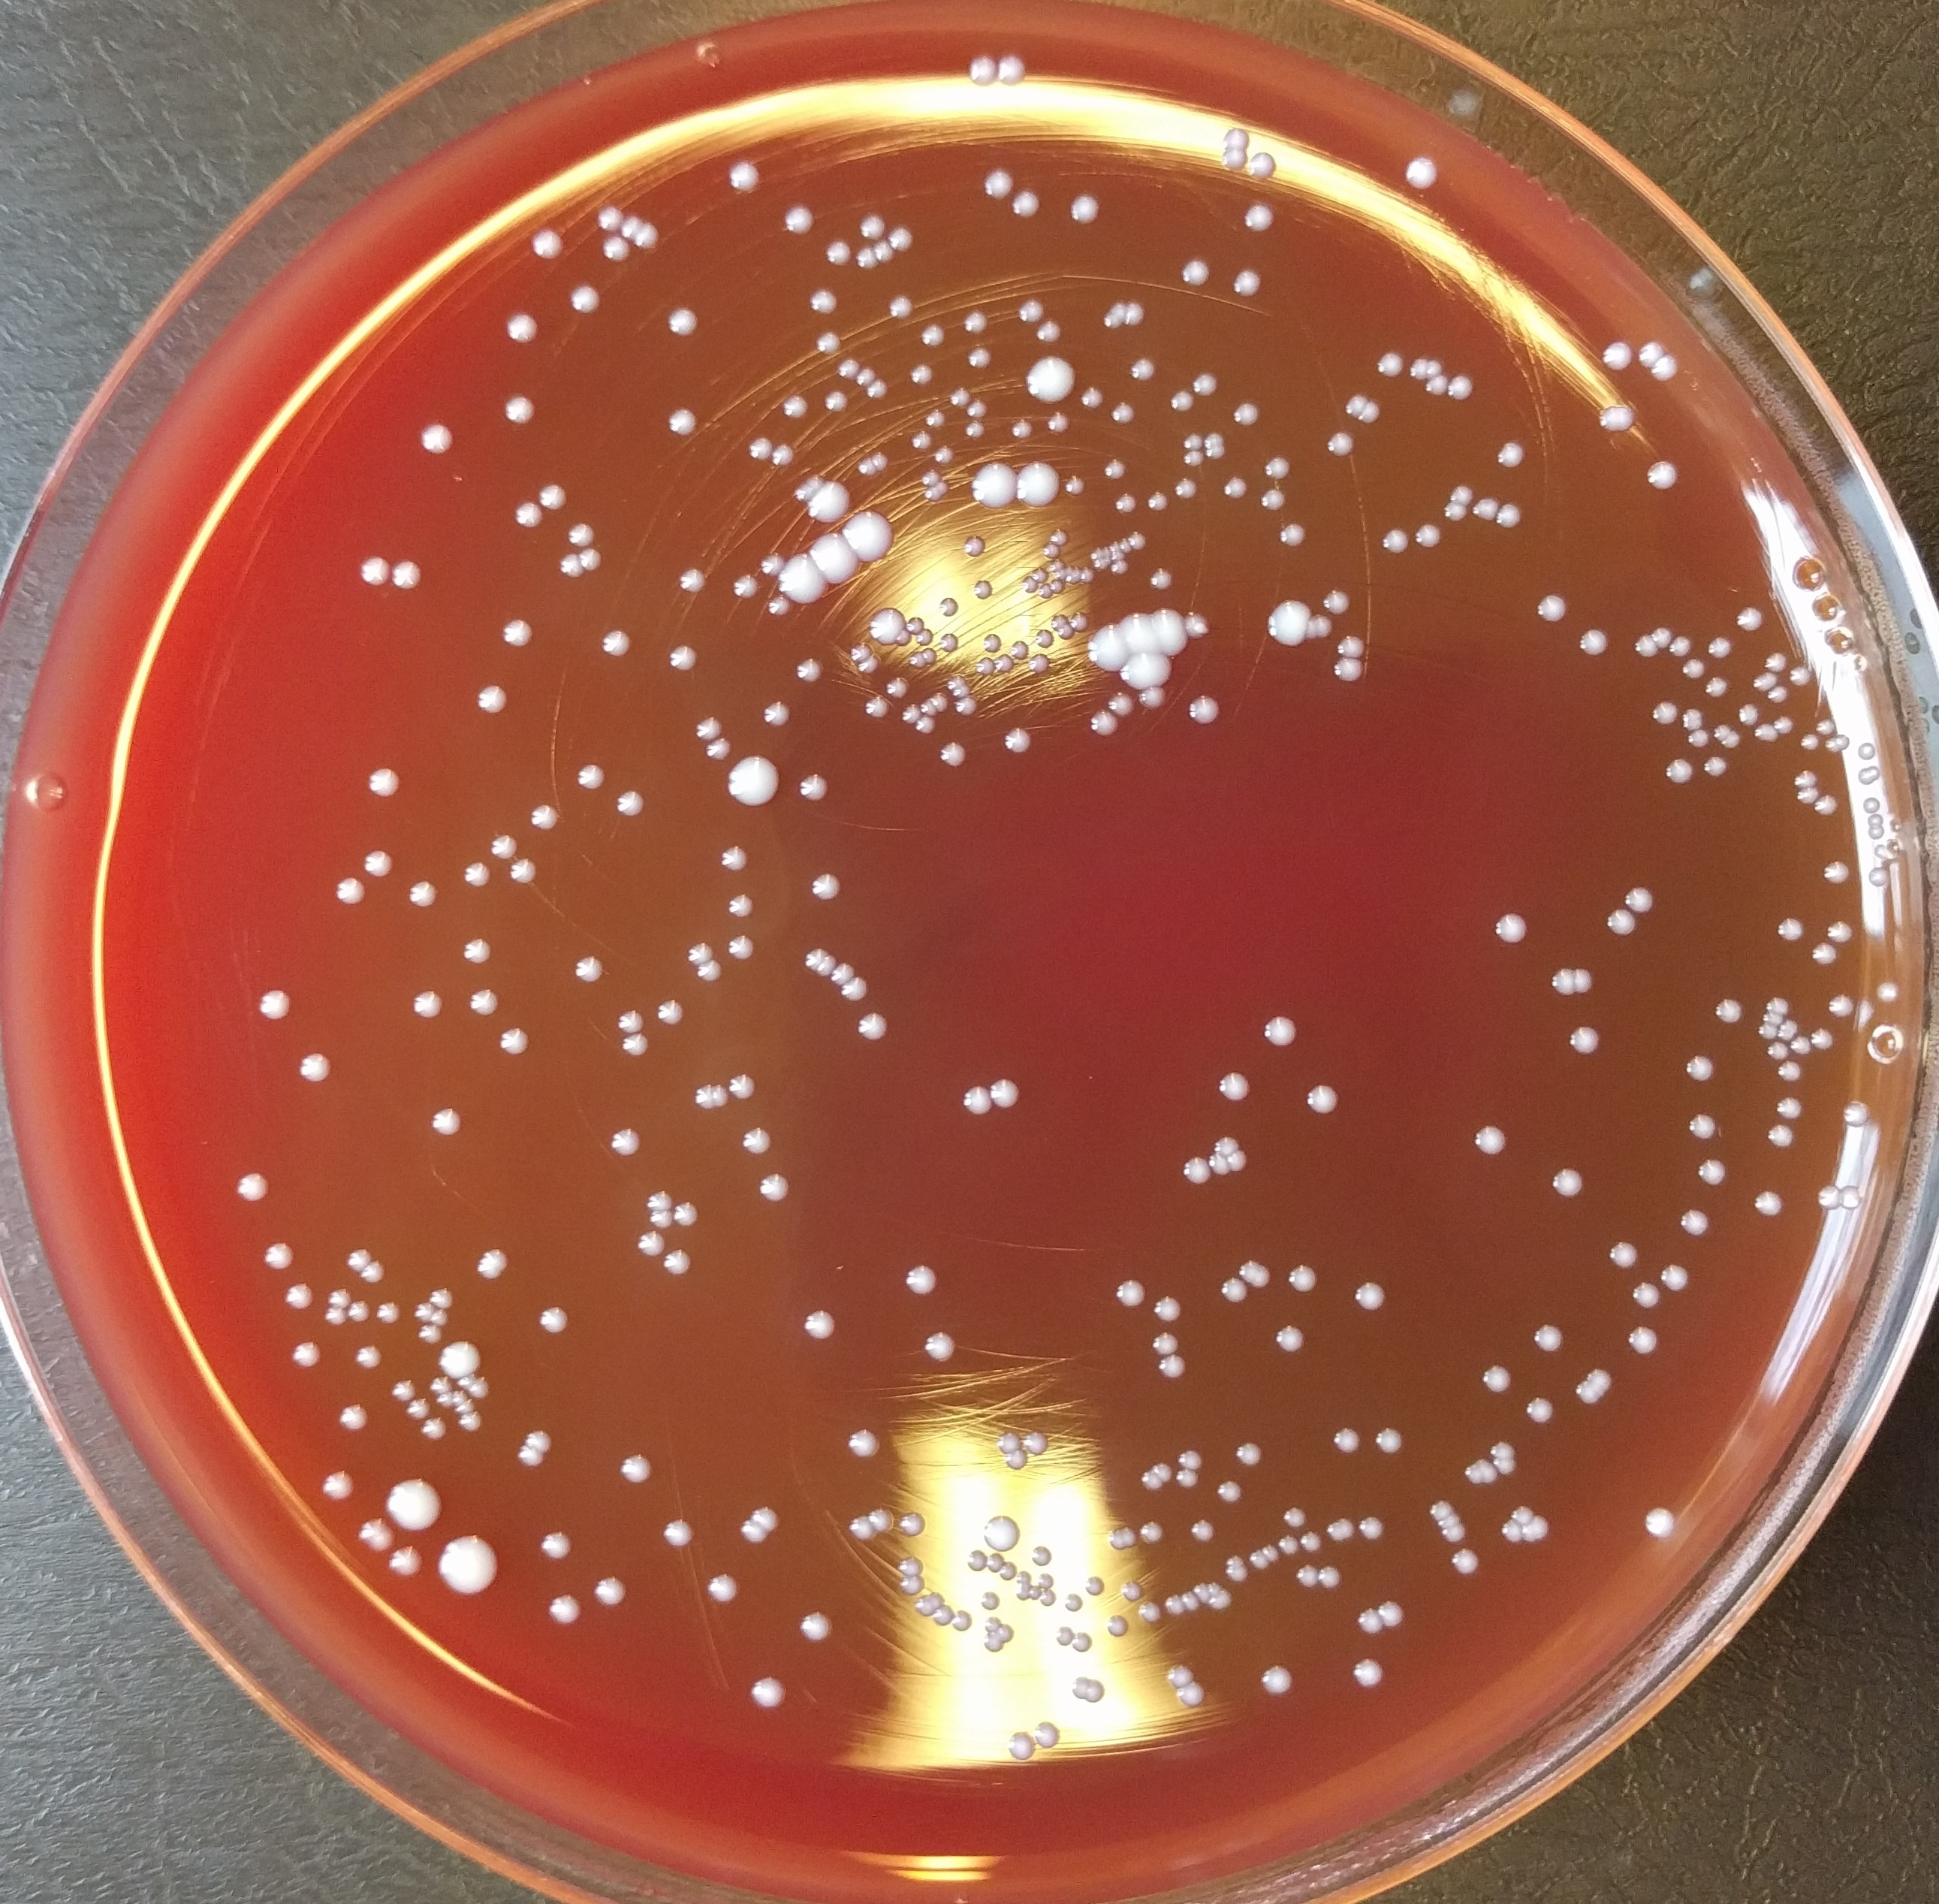sp23: (427, 1533, 504, 1597), (385, 1475, 446, 1531), (802, 532, 863, 586), (779, 549, 832, 609), (840, 506, 895, 558), (1024, 352, 1076, 403), (1266, 596, 1311, 654), (727, 757, 778, 807), (1086, 619, 1128, 678), (969, 459, 1017, 509), (792, 1604, 844, 1649), (745, 1672, 797, 1714), (504, 309, 549, 354), (1017, 460, 1058, 509), (1119, 650, 1175, 687), (497, 391, 544, 432), (563, 277, 605, 323), (317, 1468, 363, 1510), (797, 767, 842, 809), (1400, 150, 1442, 195), (349, 1510, 396, 1550), (359, 762, 406, 802), (255, 987, 298, 1029), (1119, 612, 1160, 657), (980, 1512, 1024, 1552), (659, 302, 704, 340), (232, 1170, 277, 1208), (722, 160, 769, 197), (809, 481, 851, 521), (1472, 1121, 1514, 1161), (701, 1566, 743, 1606), (385, 1538, 425, 1580), (1259, 1010, 1301, 1050), (427, 1102, 469, 1142), (439, 1337, 483, 1376), (534, 1527, 577, 1566), (354, 553, 392, 596), (994, 52, 1034, 92), (1112, 1275, 1153, 1315), (417, 418, 457, 459), (903, 1259, 945, 1297), (293, 1048, 337, 1085), (1154, 607, 1187, 654), (1533, 588, 1571, 628), (330, 874, 370, 912), (1299, 1083, 1343, 1118), (1547, 1165, 1590, 1200), (1494, 908, 1533, 947), (1350, 1655, 1388, 1693), (471, 1245, 509, 1283), (1215, 1067, 1254, 1105), (854, 1010, 893, 1048), (473, 682, 511, 720), (546, 1590, 586, 1627), (985, 1074, 1025, 1111), (391, 553, 427, 593), (1561, 1022, 1602, 1057), (1283, 1261, 1325, 1295), (842, 1426, 886, 1459), (525, 228, 570, 260), (1643, 457, 1681, 493), (260, 1236, 296, 1275), (757, 1166, 793, 1205), (870, 605, 905, 645), (1238, 197, 1273, 237), (663, 405, 703, 439), (1491, 432, 1526, 473), (1184, 692, 1224, 727), (1602, 903, 1643, 938), (1257, 1660, 1297, 1695), (460, 931, 495, 971), (537, 1302, 574, 1339), (1179, 1153, 1215, 1189), (410, 985, 446, 1022), (1010, 187, 1048, 221), (779, 202, 818, 237), (1228, 398, 1266, 432), (1712, 992, 1747, 1030), (614, 1454, 652, 1489), (661, 1513, 696, 1552), (673, 563, 711, 598), (978, 167, 1018, 201), (806, 284, 846, 317), (1350, 1280, 1390, 1313), (591, 1576, 631, 1609), (289, 1337, 330, 1370), (1573, 628, 1615, 659), (1691, 1156, 1733, 1187), (964, 52, 1001, 87), (1067, 192, 1102, 228), (1477, 1360, 1514, 1395), (661, 1243, 697, 1278), (804, 1306, 839, 1343), (574, 758, 609, 795), (359, 849, 396, 884), (628, 218, 666, 251), (1179, 255, 1217, 288), (1684, 1111, 1723, 1144), (572, 952, 610, 985), (499, 615, 537, 649), (1330, 656, 1371, 687), (1180, 607, 1215, 642), (1606, 1238, 1641, 1273), (1531, 1322, 1566, 1357), (281, 1278, 316, 1313), (924, 1329, 959, 1363), (1153, 1292, 1187, 1327), (1657, 1259, 1693, 1292), (1329, 1423, 1365, 1456), (337, 1397, 370, 1433), (959, 1079, 992, 1116), (600, 234, 638, 265), (1749, 1186, 1787, 1217), (1226, 267, 1266, 296), (1123, 350, 1158, 384), (1599, 338, 1632, 373), (1662, 757, 1697, 790), (1625, 1323, 1658, 1358), (1643, 1503, 1676, 1538), (1215, 1275, 1250, 1308), (537, 481, 572, 514), (466, 987, 502, 1018), (717, 844, 753, 875), (600, 622, 631, 659), (1446, 1547, 1484, 1576), (1271, 521, 1311, 549), (1735, 602, 1768, 635), (1840, 1098, 1873, 1132), (1526, 1393, 1559, 1426), (746, 1499, 779, 1533), (1022, 1426, 1055, 1459), (497, 1025, 530, 1058), (725, 889, 759, 922), (406, 879, 439, 912), (614, 786, 647, 819), (917, 321, 952, 352), (1379, 527, 1414, 558), (1683, 1053, 1718, 1085), (1677, 1207, 1712, 1238), (809, 868, 844, 900), (575, 544, 607, 579), (1322, 427, 1358, 457), (1170, 1447, 1208, 1475), (821, 237, 854, 269), (1374, 349, 1405, 382), (1323, 1515, 1357, 1547), (1006, 1730, 1038, 1763), (1003, 725, 1034, 758), (1245, 152, 1280, 181), (851, 244, 886, 274), (811, 330, 846, 359), (961, 307, 996, 337), (1320, 584, 1355, 614), (1772, 914, 1806, 943), (1372, 1426, 1407, 1456), (743, 1126, 778, 1156), (610, 1128, 645, 1158), (506, 856, 541, 886), (565, 521, 600, 551), (881, 293, 917, 321), (666, 645, 703, 673), (692, 717, 729, 745), (1231, 1442, 1269, 1468), (856, 213, 888, 244), (595, 202, 626, 234), (1412, 518, 1444, 549), (1766, 1121, 1798, 1153), (1177, 1679, 1208, 1710), (1032, 1721, 1064, 1752), (992, 1426, 1024, 1458), (1106, 690, 1137, 722), (757, 549, 788, 581), (1644, 352, 1677, 382), (1648, 697, 1677, 731), (1820, 858, 1854, 887), (1775, 1090, 1805, 1123), (1573, 1381, 1606, 1411), (1273, 1323, 1306, 1353), (1378, 1599, 1411, 1629), (725, 933, 759, 962), (514, 499, 548, 528), (959, 347, 994, 375), (1041, 410, 1076, 438), (1622, 886, 1657, 914), (460, 860, 495, 887), (778, 396, 814, 422), (1332, 635, 1369, 661), (732, 1519, 769, 1545), (886, 225, 917, 255), (1221, 474, 1252, 504), (1357, 1513, 1388, 1543), (1315, 1564, 1344, 1595), (530, 802, 560, 833), (556, 551, 586, 582), (729, 570, 759, 602), (1219, 124, 1252, 152), (1472, 493, 1500, 527), (1636, 337, 1663, 370), (1186, 1515, 1219, 1543), (614, 1010, 647, 1037), (860, 694, 893, 722), (1031, 316, 1065, 342), (1137, 685, 1172, 711), (1149, 1330, 1184, 1357), (352, 1344, 387, 1370), (684, 938, 718, 964), (793, 657, 828, 683), (1259, 486, 1289, 516), (1137, 1519, 1167, 1548), (865, 1506, 895, 1536), (636, 1229, 666, 1259), (727, 1072, 757, 1102), (839, 975, 868, 1004), (696, 957, 725, 987), (619, 213, 647, 244), (905, 429, 936, 457), (1167, 385, 1198, 413), (1704, 635, 1735, 663), (1144, 565, 1175, 593), (1548, 968, 1576, 999), (1215, 1477, 1243, 1508), (1172, 1465, 1203, 1493), (1355, 1608, 1386, 1635), (1165, 1662, 1196, 1690), (418, 1416, 450, 1444), (425, 1282, 453, 1313), (830, 957, 858, 989), (760, 701, 792, 729), (704, 736, 736, 764), (1447, 371, 1473, 405), (1677, 656, 1711, 682), (936, 741, 969, 767), (617, 1034, 652, 1058), (1221, 148, 1248, 178), (1018, 296, 1046, 326), (1121, 300, 1149, 330), (1109, 399, 1139, 427), (1170, 474, 1200, 502), (1191, 370, 1219, 399), (1786, 663, 1813, 692), (1826, 917, 1855, 945), (1812, 940, 1841, 968), (1629, 1280, 1658, 1308), (898, 1508, 928, 1536), (403, 1391, 431, 1421), (342, 1245, 371, 1273), (673, 1200, 703, 1227), (654, 997, 682, 1027), (488, 833, 518, 861), (1088, 710, 1118, 738), (1142, 490, 1174, 516), (1261, 453, 1292, 479), (1280, 1505, 1311, 1531), (1273, 1531, 1304, 1557), (846, 1517, 877, 1543), (521, 1428, 553, 1454), (643, 1187, 677, 1212), (769, 439, 793, 473), (963, 415, 990, 443), (1006, 415, 1034, 443), (1594, 405, 1622, 432), (1522, 1517, 1550, 1545), (466, 1377, 493, 1405), (813, 950, 840, 978), (833, 356, 863, 382), (921, 406, 950, 432), (1358, 398, 1385, 427), (1763, 650, 1793, 677), (1749, 722, 1779, 748), (1156, 1351, 1186, 1377), (1296, 1527, 1325, 1554), (1294, 1562, 1320, 1592), (371, 1297, 401, 1323), (1634, 631, 1658, 663), (1669, 628, 1693, 659), (1826, 992, 1857, 1017), (1100, 455, 1128, 481), (1341, 392, 1369, 418), (1702, 673, 1730, 699), (1702, 753, 1730, 779), (1763, 992, 1791, 1018), (1838, 1182, 1864, 1210), (1817, 1182, 1843, 1210), (1119, 1578, 1147, 1604), (949, 1606, 976, 1632), (929, 1601, 957, 1627), (1003, 1447, 1031, 1473), (345, 1295, 371, 1323), (746, 434, 774, 460), (907, 363, 936, 387), (947, 387, 976, 411), (1571, 966, 1595, 996), (1207, 1590, 1236, 1615), (898, 1573, 928, 1597), (359, 1259, 389, 1283), (413, 1323, 443, 1348), (647, 1207, 677, 1231), (691, 1083, 715, 1112), (872, 237, 898, 263), (1111, 490, 1137, 516), (1808, 1025, 1834, 1051), (1139, 1468, 1165, 1494), (1135, 1597, 1161, 1623), (802, 945, 828, 971), (865, 375, 889, 403), (1494, 502, 1522, 527), (1737, 701, 1761, 729), (1475, 1458, 1500, 1486), (1507, 1503, 1534, 1527), (514, 1444, 542, 1468), (457, 1411, 485, 1435), (424, 1372, 452, 1397), (820, 391, 849, 413), (1615, 406, 1637, 436), (1433, 1508, 1463, 1531), (1104, 1615, 1133, 1637), (452, 1398, 481, 1421), (1236, 1255, 1259, 1285), (1252, 1262, 1275, 1292), (1444, 483, 1475, 504), (1426, 1498, 1458, 1519), (1064, 473, 1088, 499), (1444, 500, 1470, 525), (1684, 725, 1711, 750), (1718, 727, 1744, 751), (1766, 1037, 1791, 1064), (1777, 1058, 1803, 1083), (1874, 980, 1899, 1006), (1587, 1363, 1613, 1388), (1500, 1520, 1524, 1547), (1245, 1547, 1269, 1573), (1222, 1561, 1248, 1585), (1079, 1574, 1106, 1599), (1083, 1677, 1107, 1703), (964, 1548, 990, 1573), (412, 1301, 436, 1327), (1027, 650, 1051, 677), (912, 711, 938, 736), (765, 591, 790, 617), (1107, 296, 1130, 324), (963, 396, 990, 418), (1421, 375, 1449, 398), (1751, 671, 1779, 694), (1791, 765, 1819, 788), (1440, 1520, 1468, 1543), (926, 1587, 954, 1609), (391, 1377, 418, 1400), (324, 1285, 352, 1308), (856, 654, 884, 677), (896, 1555, 926, 1576), (1180, 432, 1205, 457), (1772, 713, 1796, 738), (1313, 612, 1337, 636), (1868, 865, 1892, 889), (1163, 1592, 1187, 1616), (324, 1302, 349, 1327), (1212, 1133, 1236, 1158), (1205, 1151, 1229, 1175), (853, 364, 879, 387), (1203, 427, 1229, 450), (1765, 683, 1791, 706), (1793, 781, 1819, 804), (1813, 793, 1840, 816), (1151, 1461, 1177, 1484), (1069, 1632, 1095, 1655), (1226, 1147, 1248, 1173), (1078, 385, 1106, 406), (453, 1372, 481, 1393), (882, 678, 910, 699), (793, 479, 814, 507), (1794, 729, 1819, 751), (1777, 1018, 1801, 1041), (1494, 1454, 1519, 1477), (1029, 1543, 1053, 1566), (978, 1588, 1003, 1611), (427, 1308, 452, 1330), (1069, 609, 1092, 633), (994, 650, 1017, 675), (900, 703, 924, 725), (806, 471, 830, 493), (1125, 528, 1151, 549), (982, 1632, 1008, 1653), (963, 537, 989, 558), (954, 696, 980, 717), (1489, 1440, 1517, 1459), (1182, 448, 1205, 471), (1407, 357, 1430, 380), (1423, 356, 1446, 378), (1062, 1592, 1085, 1615), (982, 631, 1004, 654), (938, 631, 961, 654), (1650, 626, 1670, 650), (1756, 1020, 1780, 1041), (1789, 1036, 1813, 1057), (1180, 1588, 1201, 1613), (1071, 1676, 1092, 1700), (434, 1390, 455, 1414), (849, 642, 874, 663), (856, 457, 877, 481), (1861, 795, 1887, 814), (868, 446, 888, 473), (1099, 309, 1119, 331), (1681, 703, 1704, 724), (1259, 1543, 1282, 1564), (1119, 1526, 1140, 1548), (1034, 1571, 1057, 1592), (997, 1561, 1020, 1581), (990, 1622, 1013, 1642), (710, 1085, 731, 1107), (971, 579, 994, 600), (938, 596, 959, 619), (1008, 640, 1031, 661), (975, 656, 997, 677), (905, 615, 928, 636), (1032, 629, 1057, 649), (931, 446, 956, 466), (1857, 741, 1878, 762), (1013, 1567, 1034, 1588), (985, 1552, 1006, 1573), (1048, 527, 1069, 547), (1463, 1463, 1482, 1486), (1041, 539, 1064, 558), (1681, 715, 1705, 732), (1812, 715, 1836, 732), (1712, 722, 1731, 743), (1191, 1583, 1210, 1604), (1107, 1529, 1126, 1550), (1038, 1587, 1058, 1606), (915, 1597, 936, 1616), (1050, 614, 1071, 633), (921, 467, 942, 486), (922, 485, 943, 504), (945, 673, 966, 692), (931, 692, 950, 713), (919, 697, 938, 718), (1057, 1627, 1074, 1649), (1761, 1011, 1786, 1027), (1013, 1581, 1032, 1601), (1038, 582, 1057, 602), (915, 628, 935, 647), (895, 628, 914, 647), (921, 647, 940, 666), (1836, 732, 1854, 753), (983, 1615, 1004, 1632), (1031, 567, 1051, 584), (1057, 622, 1078, 640), (1205, 445, 1228, 460), (1111, 558, 1128, 577), (1048, 577, 1067, 595), (1020, 575, 1039, 593), (908, 650, 926, 670), (1116, 539, 1137, 554), (1822, 734, 1838, 755), (1203, 1581, 1224, 1597), (1868, 811, 1885, 828), (1868, 762, 1883, 781), (952, 683, 971, 699), (1857, 764, 1869, 788), (929, 481, 950, 495), (1868, 825, 1885, 840), (1024, 1585, 1041, 1601), (1078, 565, 1093, 582), (1224, 1555, 1243, 1569), (1111, 547, 1126, 563), (1048, 558, 1065, 572), (1093, 558, 1109, 572), (1086, 547, 1104, 560), (1102, 546, 1114, 558), (1065, 563, 1076, 577), (1109, 541, 1121, 551)
